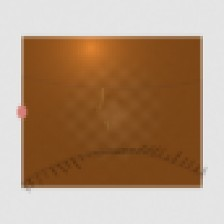corneal_ulcer: (77, 97, 128, 138)
